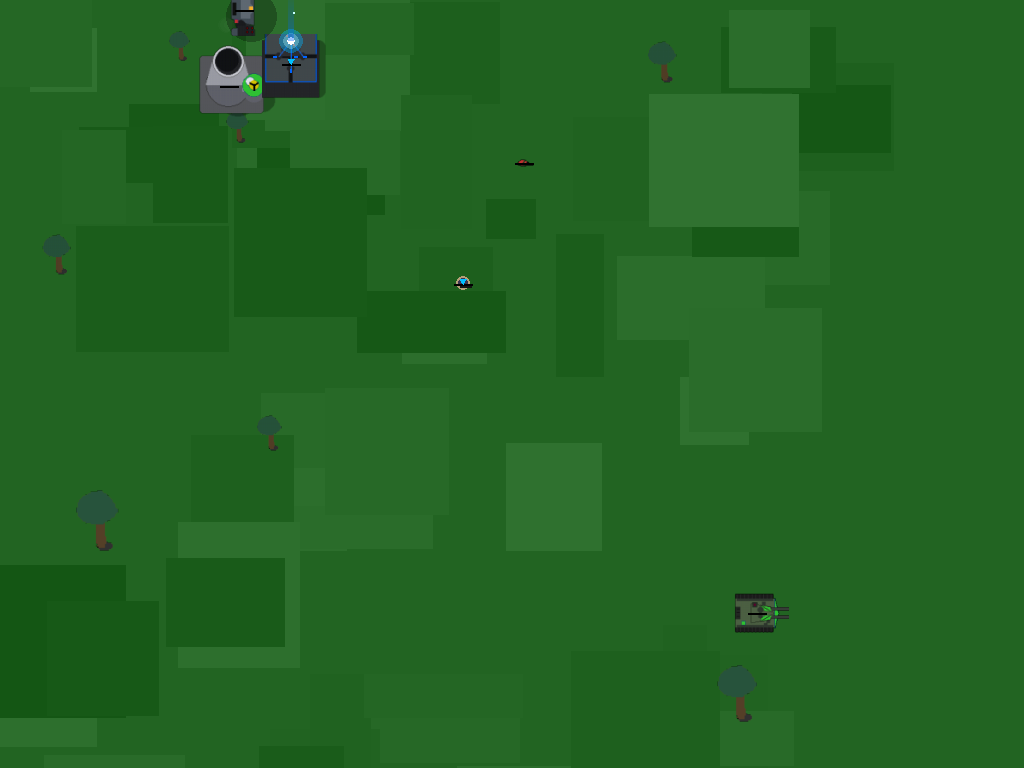HeavyMech: (222, 0, 264, 42)
PowerPlant: (200, 57, 256, 113)
ResearchCenter: (256, 29, 325, 98)
RocketTrooper: (449, 268, 477, 296)
Sniper: (510, 149, 537, 176)
Type99: (733, 588, 780, 635)
